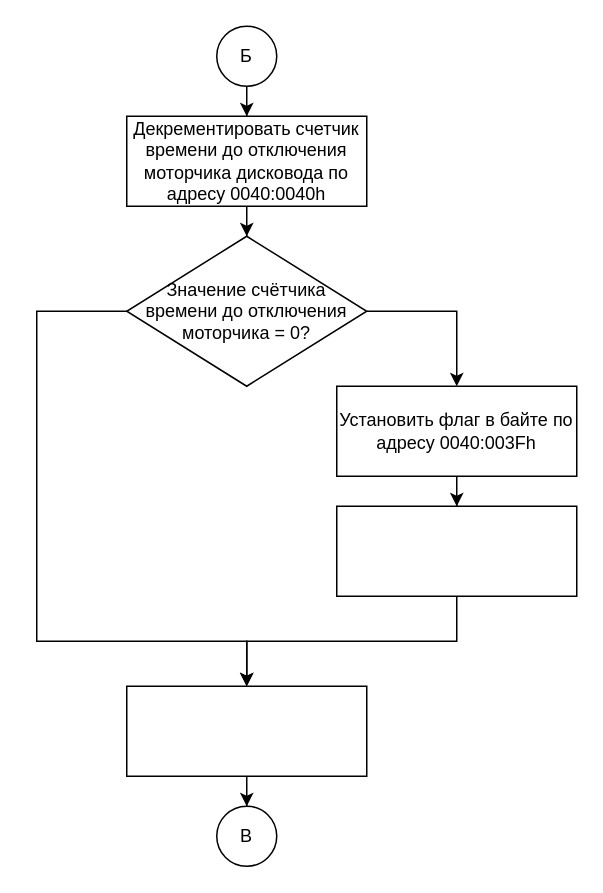
Some shapes in this 603 by 893 pixel diagram are drawn without their labels. Here are the shapes that lost their labels. From the top down, the centre of each, then its label:
At [456,550]: "Отправить в порт 3F2h команду 0Ch".
At [246,730]: "Восстановить регистр AX".
